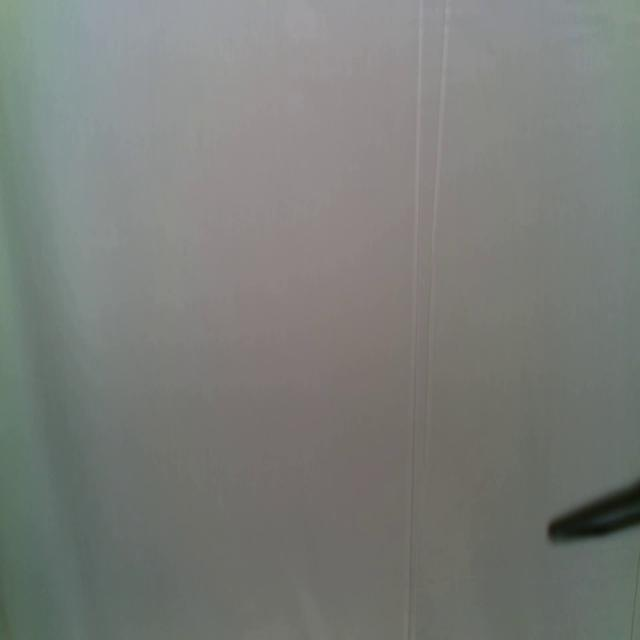crease: (402, 0, 455, 640)
